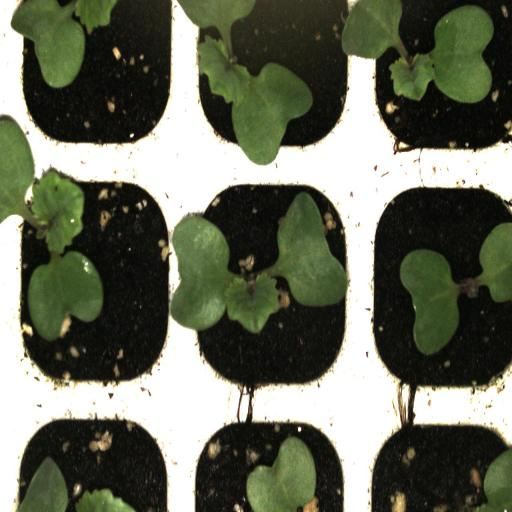Folha: (11, 0, 118, 89), (400, 249, 459, 356), (246, 436, 317, 512), (341, 0, 403, 60), (479, 222, 512, 302)
Germinacao: (182, 164, 364, 404), (7, 161, 181, 404), (364, 164, 512, 402), (183, 0, 363, 160), (364, 0, 512, 162)
